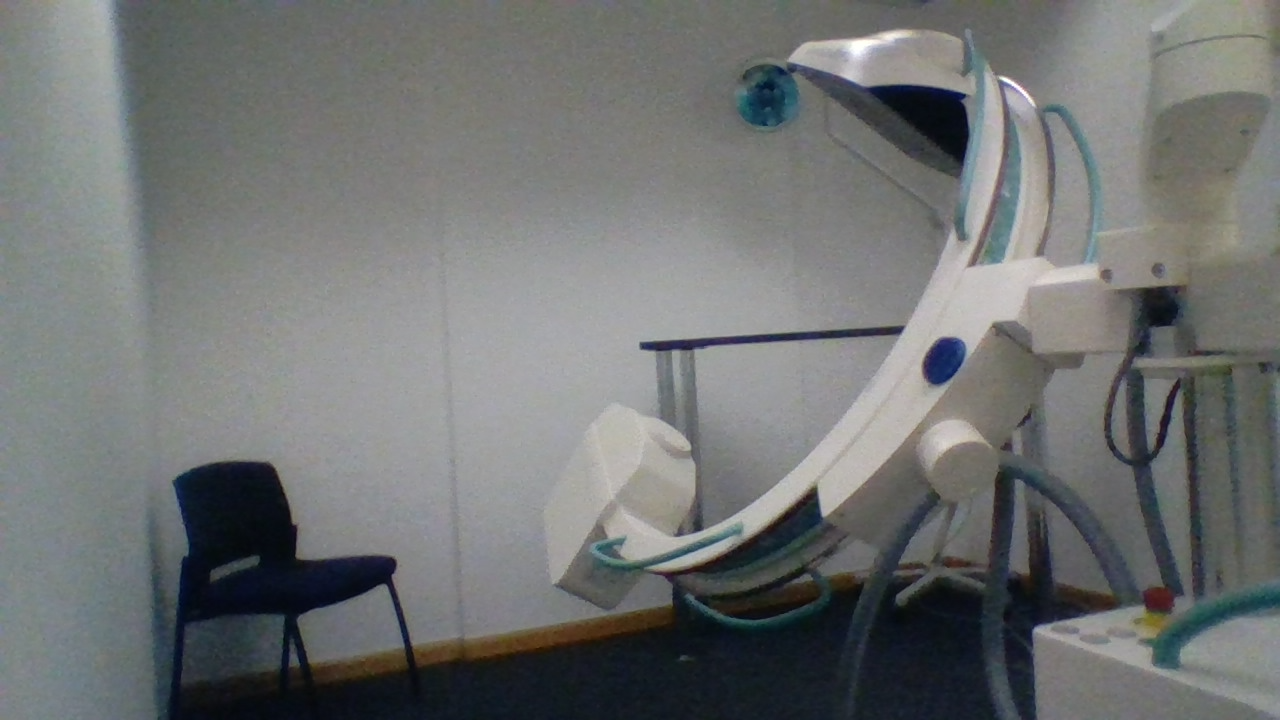carmDOWN: (592, 399, 697, 538)
carmLOCK: (919, 334, 966, 386)
carmUP: (788, 25, 1031, 183)
